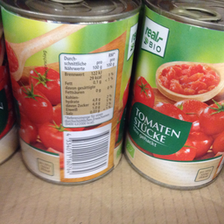tomato_sauce: (1, 1, 137, 186), (122, 1, 224, 188)
